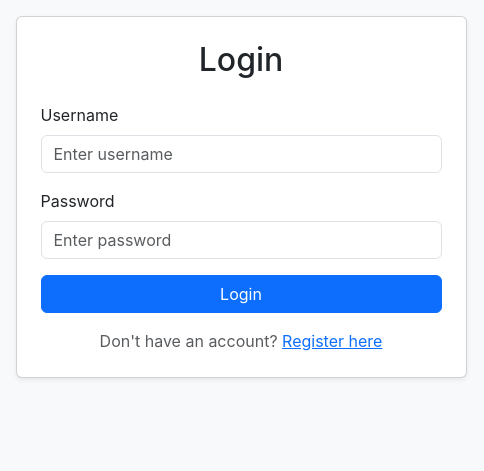
Test: Login › shows generic error when no message from server
Type "x" into the field with placeholder "Enter username" at (241, 154), box [40, 135, 442, 173]
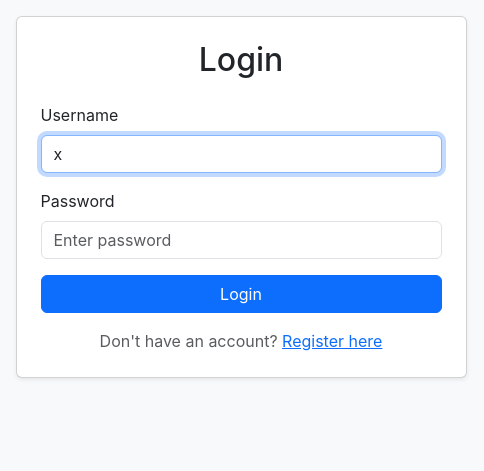
Type "x" into the password field with placeholder "Enter password" at (241, 240), box [40, 221, 442, 259]
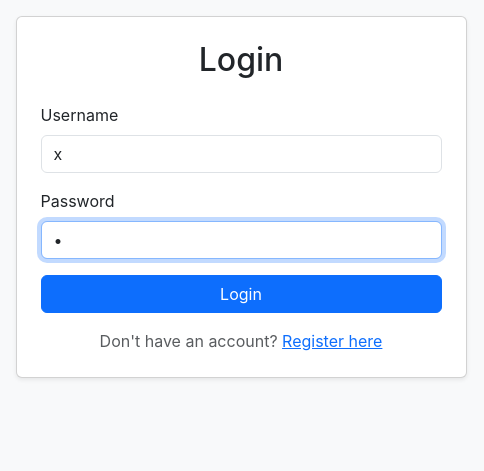
Click the button "Login" at (241, 294), box [40, 275, 442, 313]
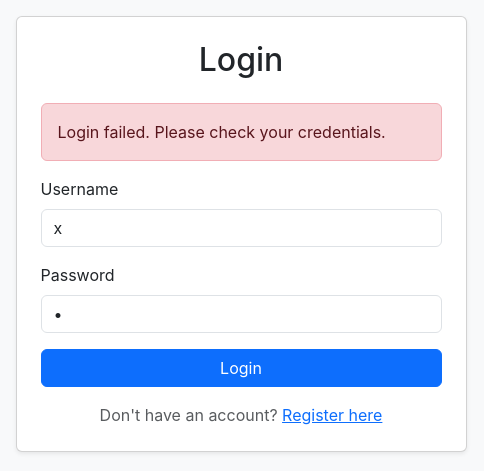
Now the text "Login failed. Please check your credentials." is shown, box [40, 103, 442, 161]
